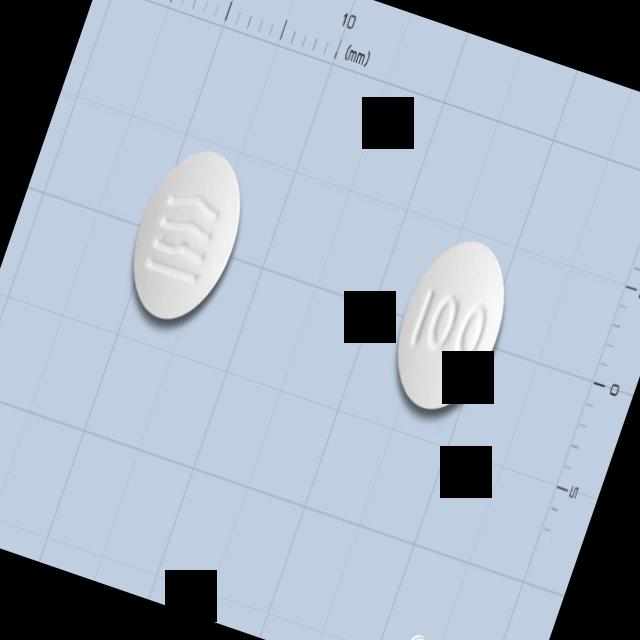Levotra: (112, 134, 262, 334), (377, 224, 526, 424)
